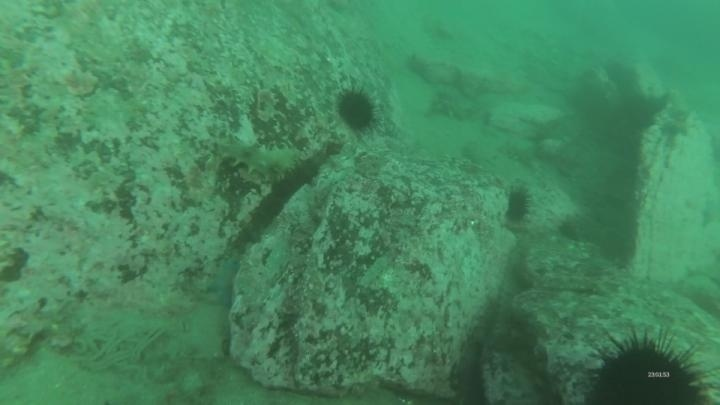echinus: (584, 328, 710, 404), (334, 86, 378, 133), (502, 185, 534, 225)
holothurian: (214, 136, 307, 184), (425, 90, 482, 123)
starfish: (202, 255, 243, 309), (657, 106, 694, 143)
